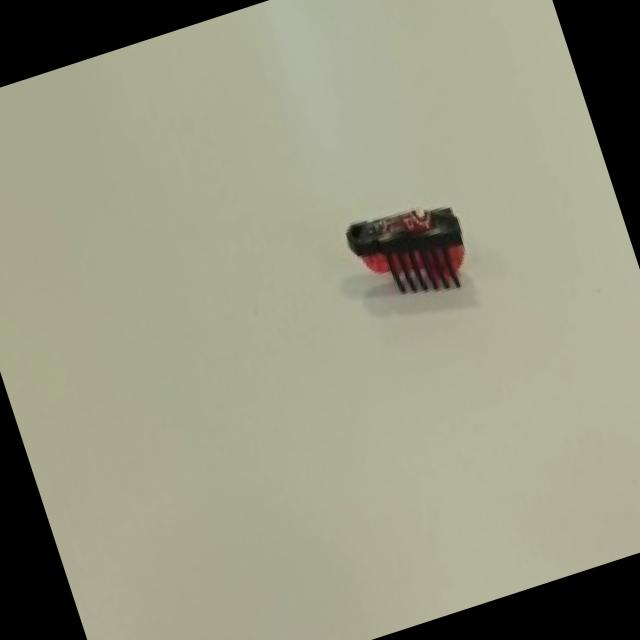2_NanoBug_Negro: (311, 150, 510, 358)
